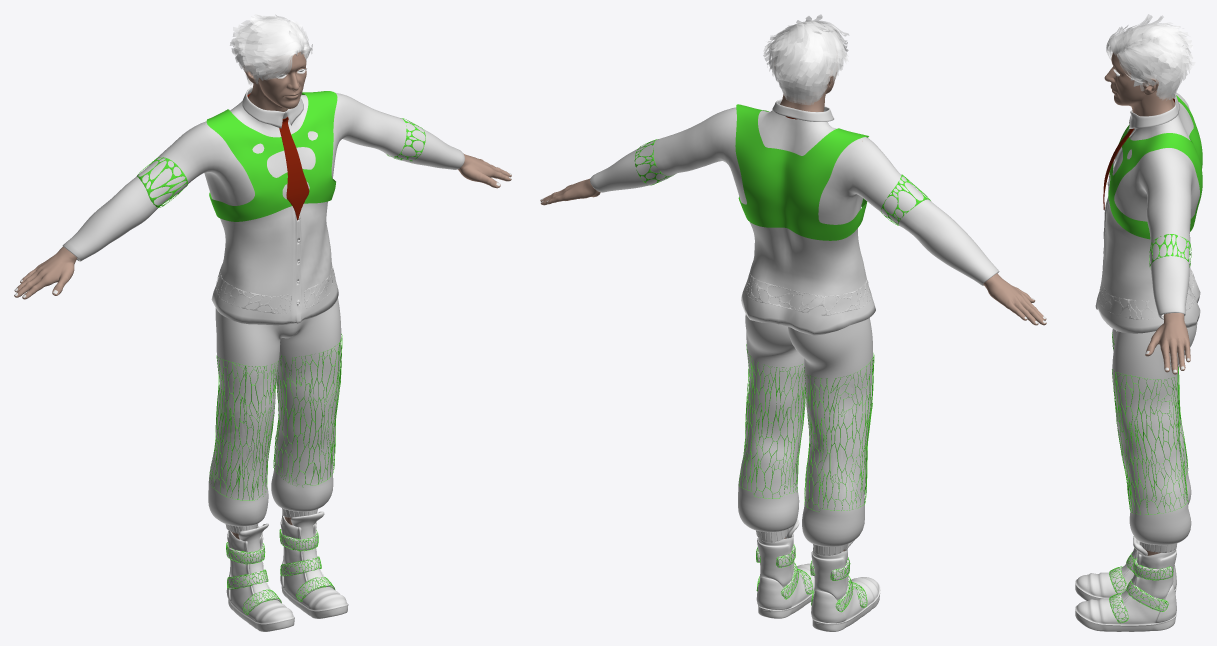
The model's file is secretaire.fbx.
The picture shows the model from 3 angles, left to right: view 1: azimuth 30°, elevation 25°; view 2: azimuth 150°, elevation 25°; view 3: azimuth 270°, elevation 25°; orthographic projection.
Visible parts, largest first — view 1: Chemise, Pants, Shoes, Gelatine haut de corps, Gelatine pants, Body, basemesh22.015, Pants.001, Gelaine chaussure, Cravate, Gelatine chemise bas, Gelatine_chemise_arm.L.001; view 2: Chemise, Pants, Gelatine haut de corps, Shoes, Gelatine pants, basemesh22.015, Pants.001, Body, Gelaine chaussure, Gelatine chemise bas; view 3: Chemise, Pants, Shoes, basemesh22.015, Body, Gelatine pants, Gelatine haut de corps, Gelaine chaussure, Gelatine chemise bas, Scalp_Male, Gelatine_chemise_arm.L, Cravate.
Part boxes in pixels (box(x1,y1,x2,y2)): Chemise: box(62, 86, 464, 325); Pants: box(208, 298, 341, 533); Shoes: box(226, 511, 348, 631); Gelatine haut de corps: box(206, 91, 337, 221); Gelatine pants: box(209, 334, 342, 500); Body: box(14, 51, 511, 539); basemesh22.015: box(230, 14, 312, 85); Pants.001: box(209, 362, 278, 493); Gelaine chaussure: box(226, 529, 335, 614); Cravate: box(247, 93, 309, 220); Gelatine chemise bas: box(216, 264, 335, 313); Gelatine_chemise_arm.L.001: box(137, 157, 188, 207); Chemise: box(590, 99, 999, 335); Pants: box(738, 314, 872, 555); Gelatine haut de corps: box(735, 104, 868, 240); Shoes: box(756, 519, 880, 631); Gelatine pants: box(739, 344, 874, 511); basemesh22.015: box(763, 14, 849, 105); Pants.001: box(804, 366, 872, 509); Body: box(540, 72, 1046, 551); Gelaine chaussure: box(756, 544, 867, 612); Gelatine chemise bas: box(745, 272, 871, 315); Chemise: box(1095, 92, 1200, 333); Pants: box(1112, 323, 1197, 552); Shoes: box(1075, 536, 1176, 631); basemesh22.015: box(1106, 14, 1195, 100); Body: box(1104, 52, 1190, 555); Gelatine pants: box(1112, 332, 1188, 514); Gelatine haut de corps: box(1108, 95, 1202, 239); Gelaine chaussure: box(1109, 552, 1173, 623); Gelatine chemise bas: box(1099, 267, 1195, 319); Scalp_Male: box(1118, 30, 1176, 90); Gelatine_chemise_arm.L: box(1149, 234, 1191, 268); Cravate: box(1103, 98, 1174, 209).
Size of the model in its own units: 169 by 191 by 37.45.
